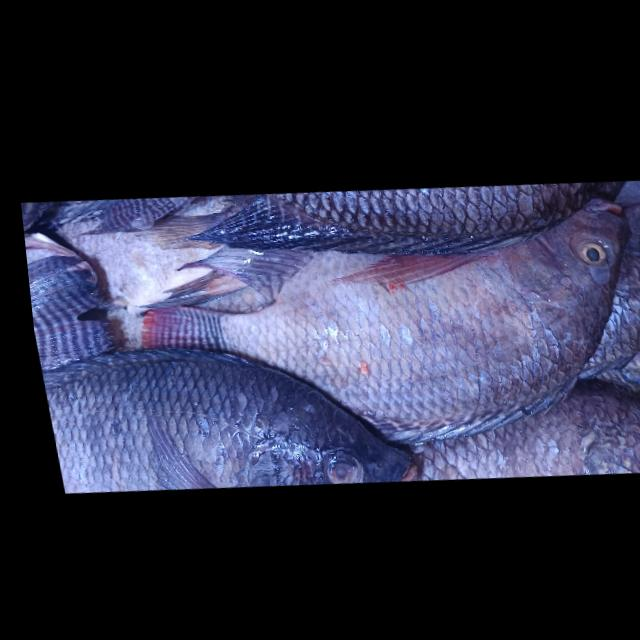Tilapia: (111, 169, 640, 479), (35, 320, 423, 512)
